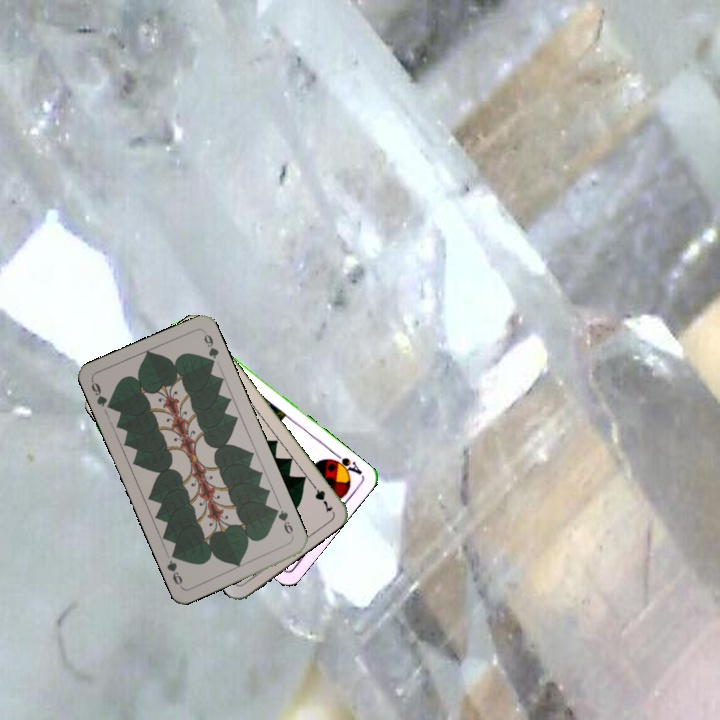G7: (306, 478, 336, 515)
G9: (87, 377, 116, 412), (270, 504, 296, 541)
SA: (326, 448, 365, 478)
